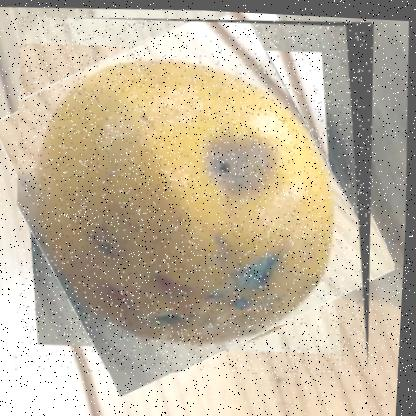orange_rotten: (5, 3, 386, 384)
